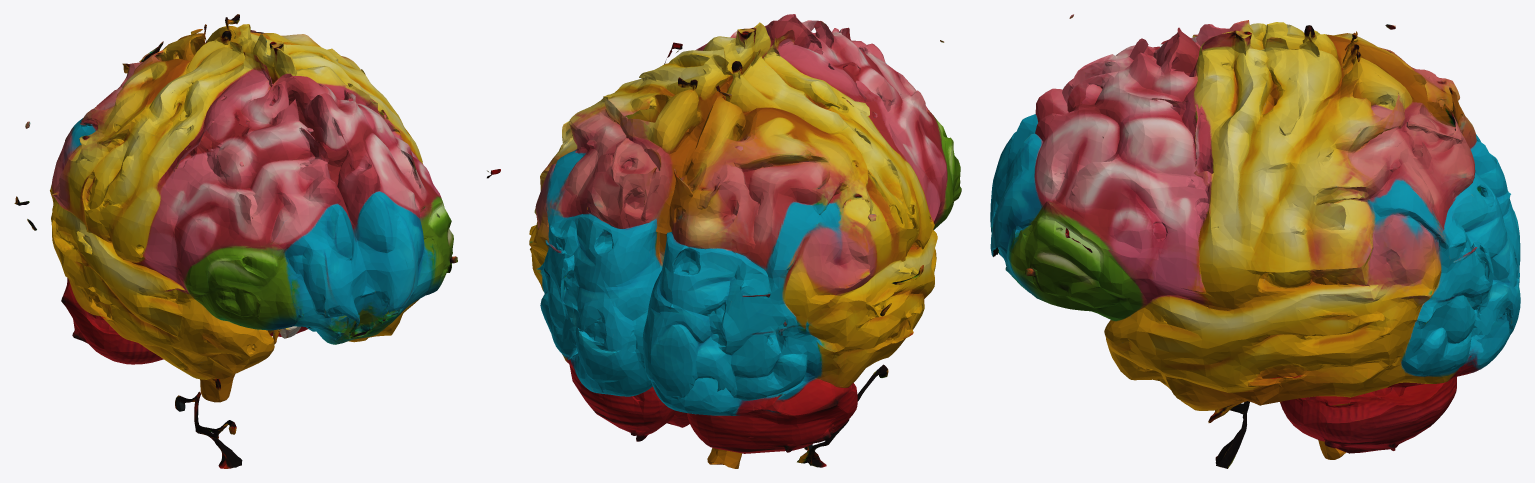
File: a42fff99-22ca-4f56-9ff0-f5fd88e502a9.glb
3 renders of one model, left to right at view 1: azimuth 30°, elevation 25°; view 2: azimuth 150°, elevation 25°; view 3: azimuth 270°, elevation 25°, orthographic. The views are drawn at different scales.
Visible parts, largest first — view 1: world; view 2: world; view 3: world.
Boxes of the visible parts, box(x1,y1,x2,y2) form: world: box(14, 14, 500, 468); world: box(529, 14, 961, 468); world: box(990, 14, 1520, 468).
Bounding box in the file's own units: 0.896 × 0.9533 × 0.9984.
1 material, 1 textured.
